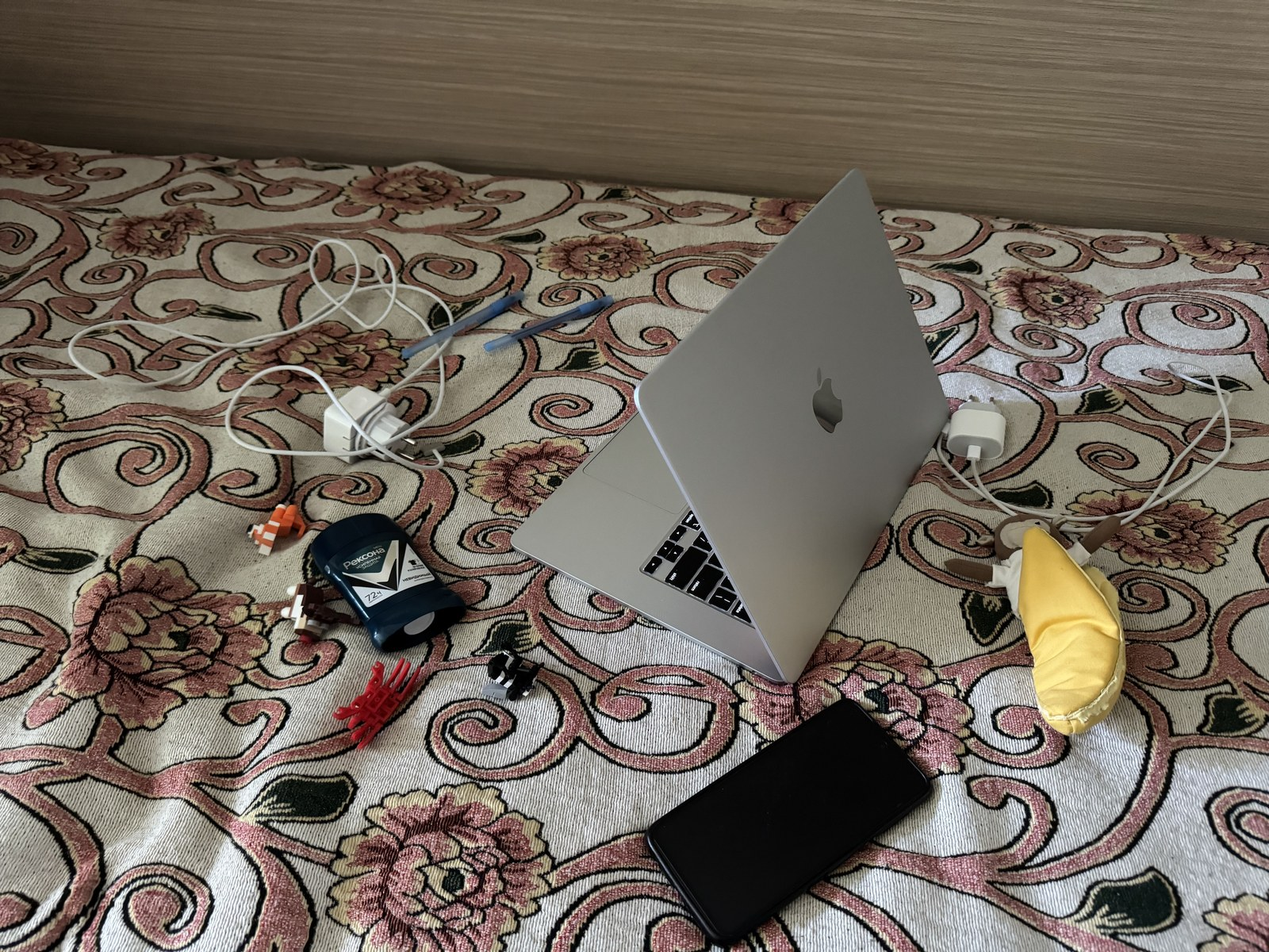cell phone: (645, 697, 934, 945)
laptop: (510, 167, 951, 684)
